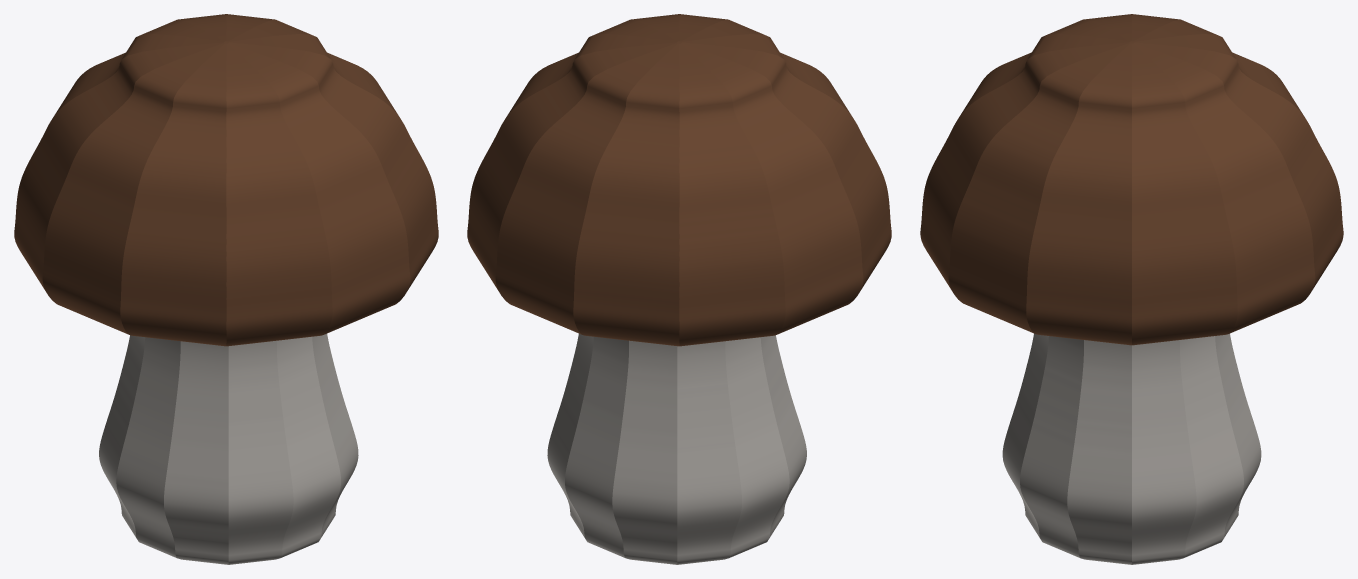
3 renders of one model, left to right at view 1: azimuth 30°, elevation 25°; view 2: azimuth 150°, elevation 25°; view 3: azimuth 270°, elevation 25°, orthographic.
Parts seen in each view (by area): view 1: cap, stem; view 2: cap, stem; view 3: cap, stem.
Boxes of the visible parts, x1=… form: cap: x1=14, y1=14, x2=438, y2=346; stem: x1=99, y1=333, x2=358, y2=564; cap: x1=467, y1=14, x2=891, y2=346; stem: x1=547, y1=333, x2=806, y2=564; cap: x1=920, y1=14, x2=1343, y2=345; stem: x1=1002, y1=333, x2=1261, y2=564.
Size of the model in its own units: 0.0772 by 0.1 by 0.0772.
